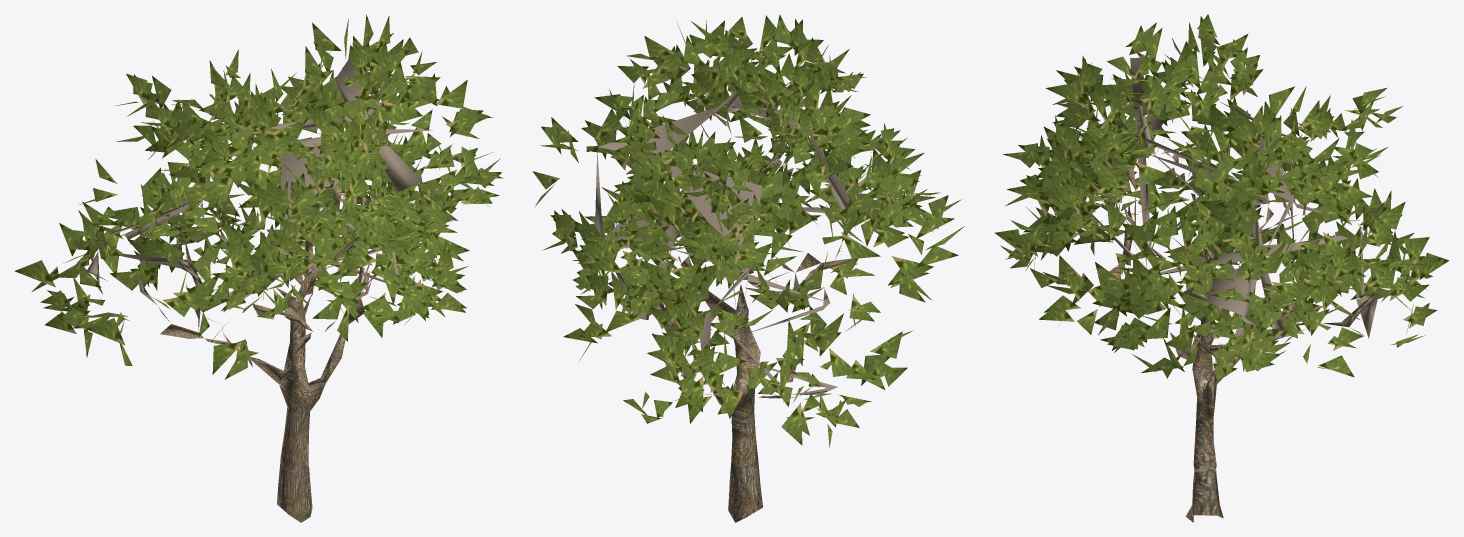
File: pohon-maple.glb
3 views of the same model, side by side, from view 1: azimuth 30°, elevation 25°; view 2: azimuth 150°, elevation 25°; view 3: azimuth 270°, elevation 25° (orthographic). The views are drawn at different scales.
Parts seen in each view (by area): view 1: daun, batang, ranting; view 2: daun, ranting, batang; view 3: daun, ranting, batang.
Part boxes in pixels (left/top/right/bottom): daun: left=14, top=14, right=503, bottom=379; batang: left=137, top=148, right=424, bottom=522; ranting: left=87, top=57, right=432, bottom=309; daun: left=532, top=14, right=964, bottom=447; ranting: left=595, top=56, right=863, bottom=402; batang: left=643, top=105, right=857, bottom=522; daun: left=994, top=14, right=1449, bottom=381; ranting: left=1091, top=57, right=1378, bottom=364; batang: left=1099, top=117, right=1384, bottom=522.
Size of the model in its own units: 0.7918 by 1 by 0.8397.
3 materials, 2 textured.
